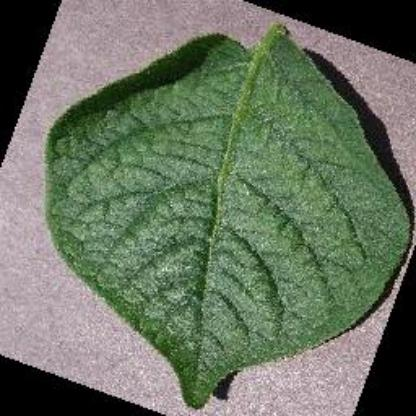Healthy-plant: (37, 15, 415, 408)
